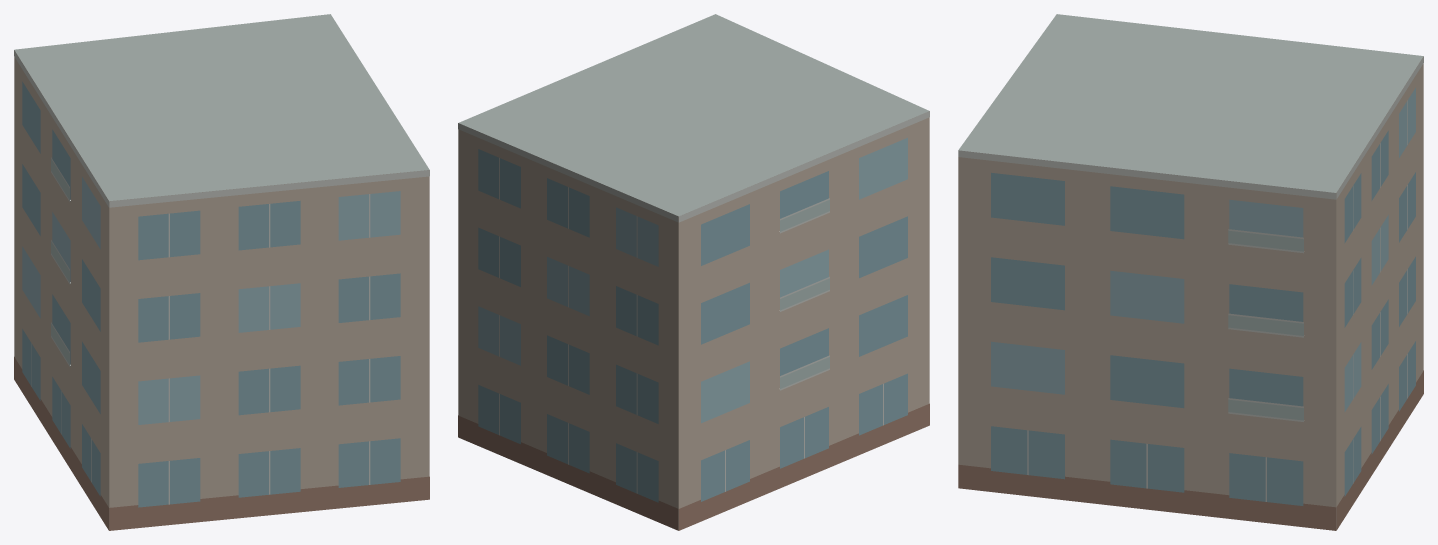
Rendered from survey-upis-32656221.glb.
3 views of the same model, side by side, from view 1: azimuth 30°, elevation 25°; view 2: azimuth 150°, elevation 25°; view 3: azimuth 270°, elevation 25° (orthographic). The views are drawn at different scales.
Visible parts, largest first — view 1: survey-upis-32656221.tmp; view 2: survey-upis-32656221.tmp; view 3: survey-upis-32656221.tmp.
Boxes of the visible parts, <box> form: survey-upis-32656221.tmp: <box>14,14,429,530</box>; survey-upis-32656221.tmp: <box>458,14,929,530</box>; survey-upis-32656221.tmp: <box>958,14,1423,530</box>.
Size of the model in its own units: 13.98 by 12.3 by 15.37.
